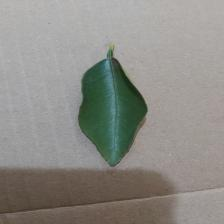healthy: (46, 46, 184, 168)
